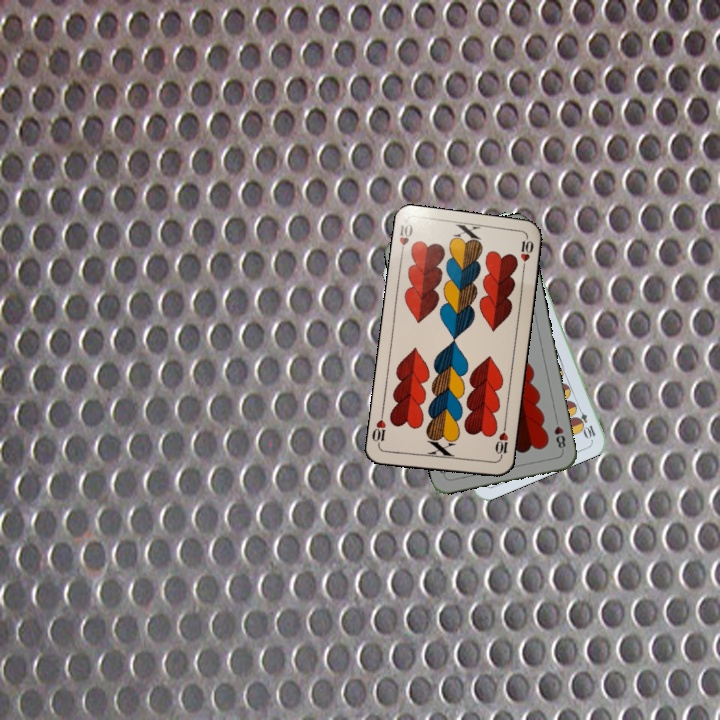E10: (572, 402, 598, 441)
H10: (491, 422, 511, 462), (395, 220, 415, 260)
H8: (550, 413, 568, 453)
